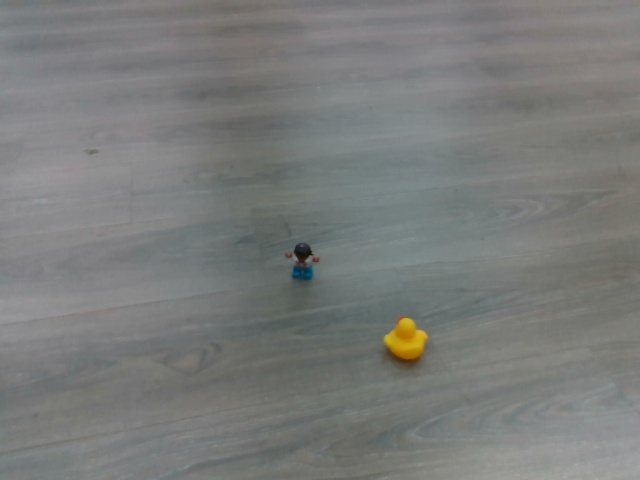duck: (380, 313, 430, 361)
people: (283, 238, 322, 281)
